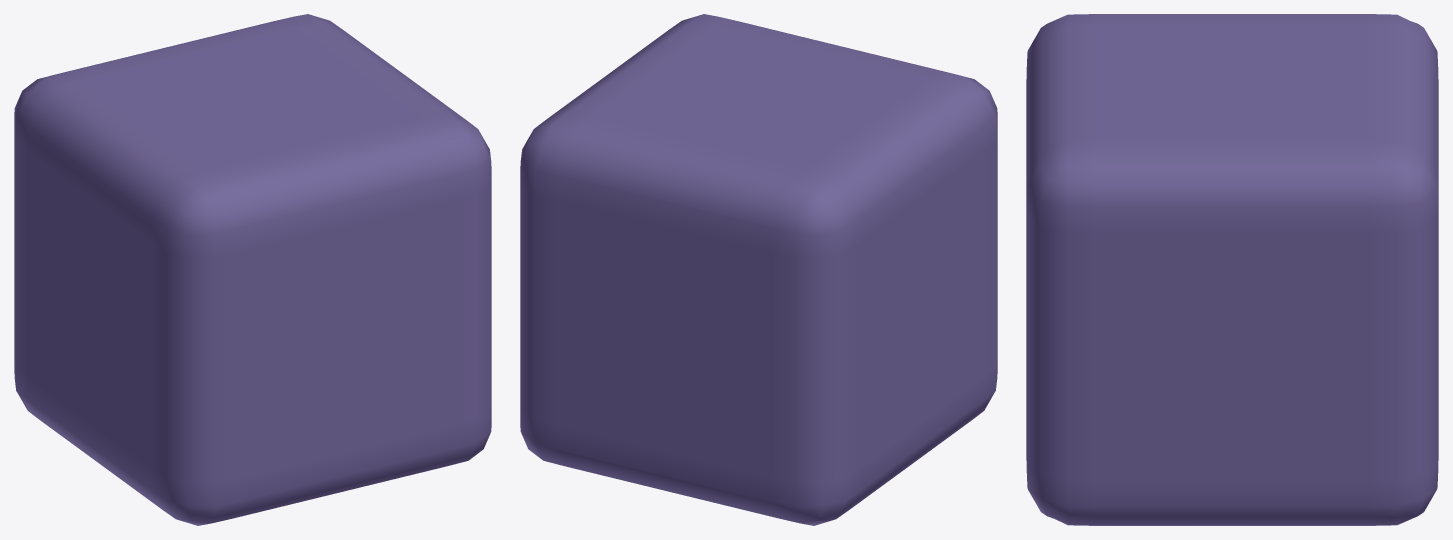
The model's file is SoftBlockMid_v07.glb.
3 renders of one model, left to right at view 1: azimuth 30°, elevation 25°; view 2: azimuth 150°, elevation 25°; view 3: azimuth 270°, elevation 25°, orthographic. The views are drawn at different scales.
Visible parts, largest first — view 1: SoftBlockMid; view 2: SoftBlockMid; view 3: SoftBlockMid.
Boxes of the visible parts, <box> form: SoftBlockMid: <box>14,14,491,525</box>; SoftBlockMid: <box>520,14,997,525</box>; SoftBlockMid: <box>1026,14,1438,525</box>.
Bounding box in the file's own units: 1 × 1 × 1.
